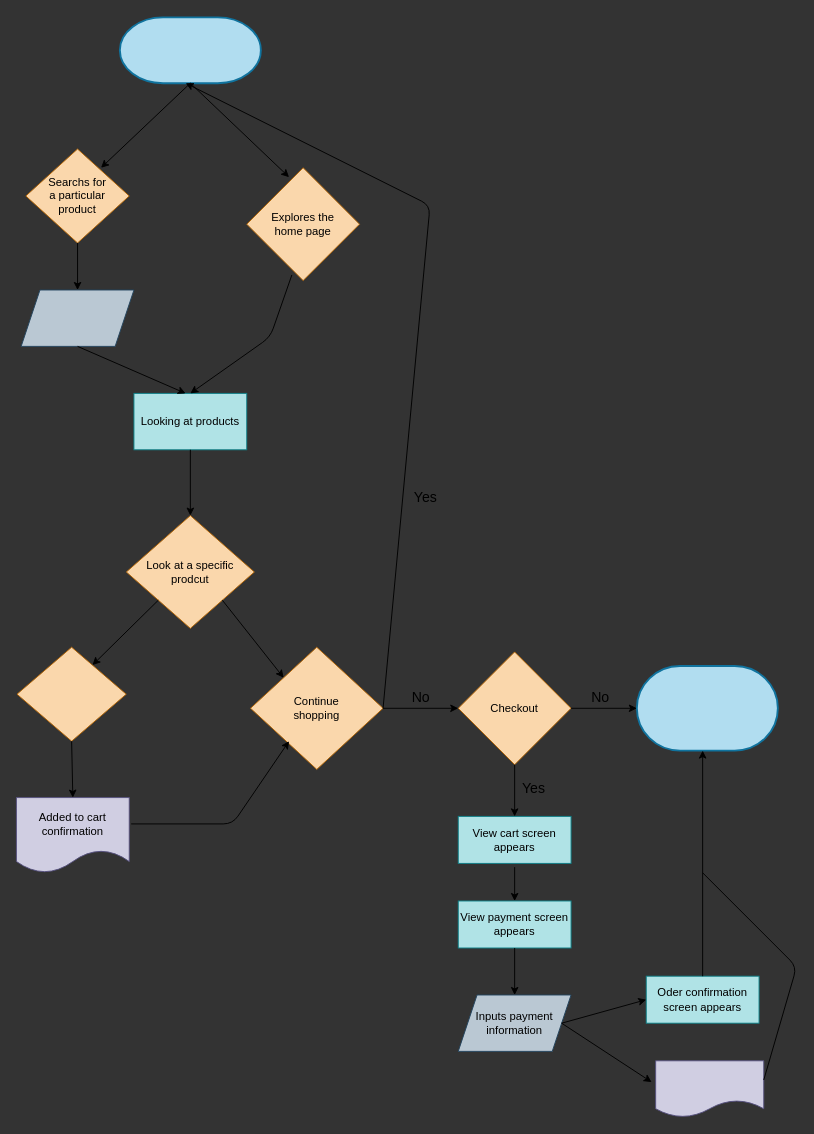
Some shapes in this 814 by 1134 pixel diagram are drawn without their labels. The box of each missing label's shape, as (x1, y1, x2, y2) in pixels:
Add to cart: (16, 646, 126, 741)
Input from the user: (20, 289, 134, 346)
Oder confirmation email sent: (655, 1060, 764, 1117)
User enters the website: (118, 16, 261, 84)
User leaves the website: (635, 665, 778, 751)
